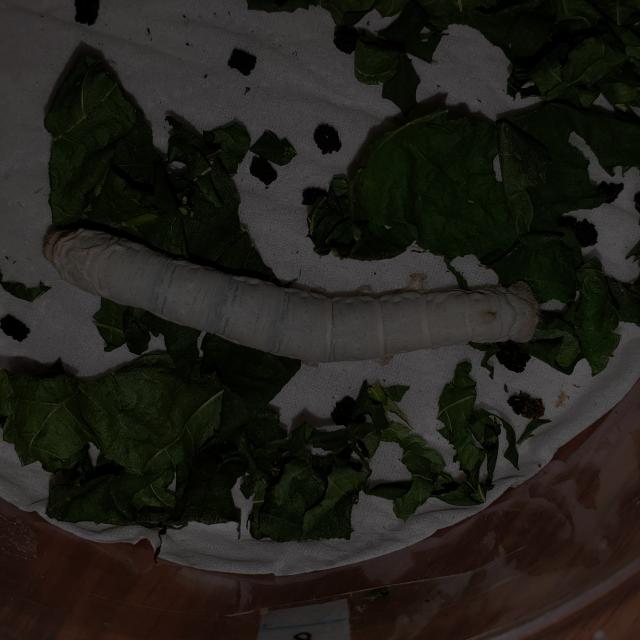Healthy: (36, 204, 548, 376)
